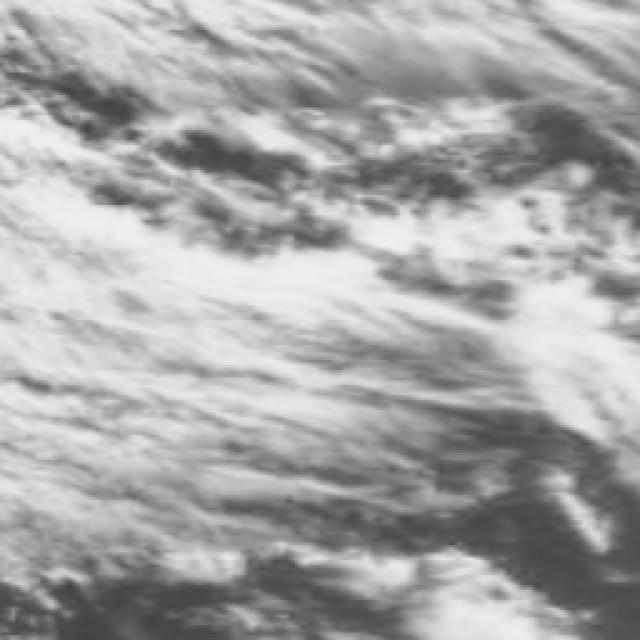CB: (13, 208, 308, 467)
